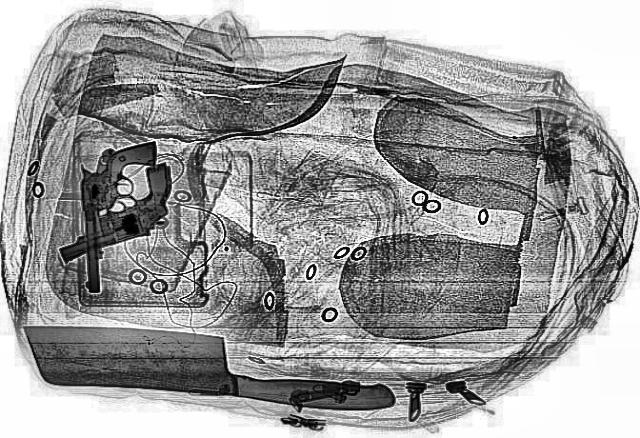Gun: (22, 161, 208, 261), (74, 140, 168, 292)
Knife: (16, 322, 400, 410)
